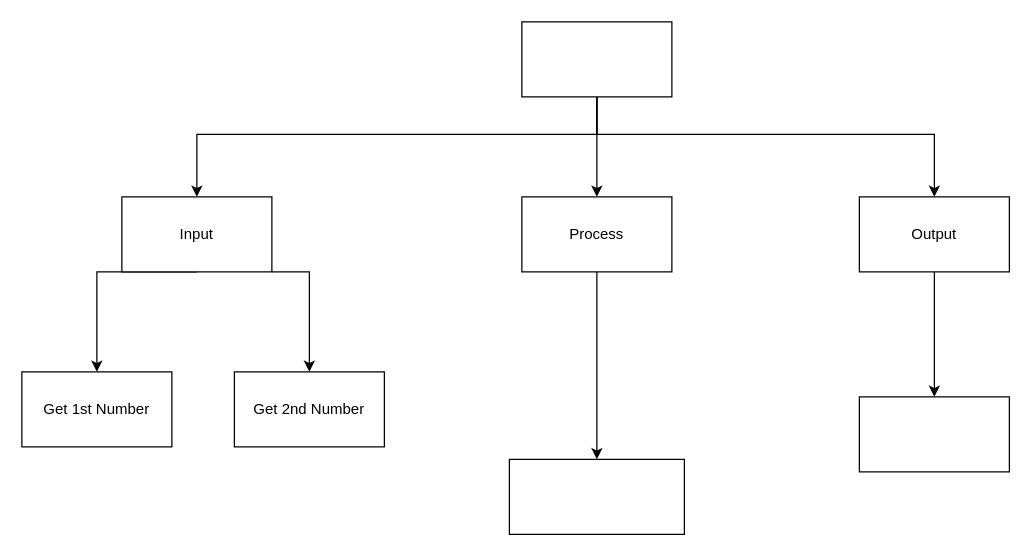
The diagram is 1031 pixels wide and 556 high, and some of its shapes have lost their labels. The centre of each missing label's shape, as x and y in pixels:
"Addition Program" belongs at point 596,59.
"Number 1 + Number 2" belongs at point 596,496.
"Show Solution" belongs at point 933,434.
